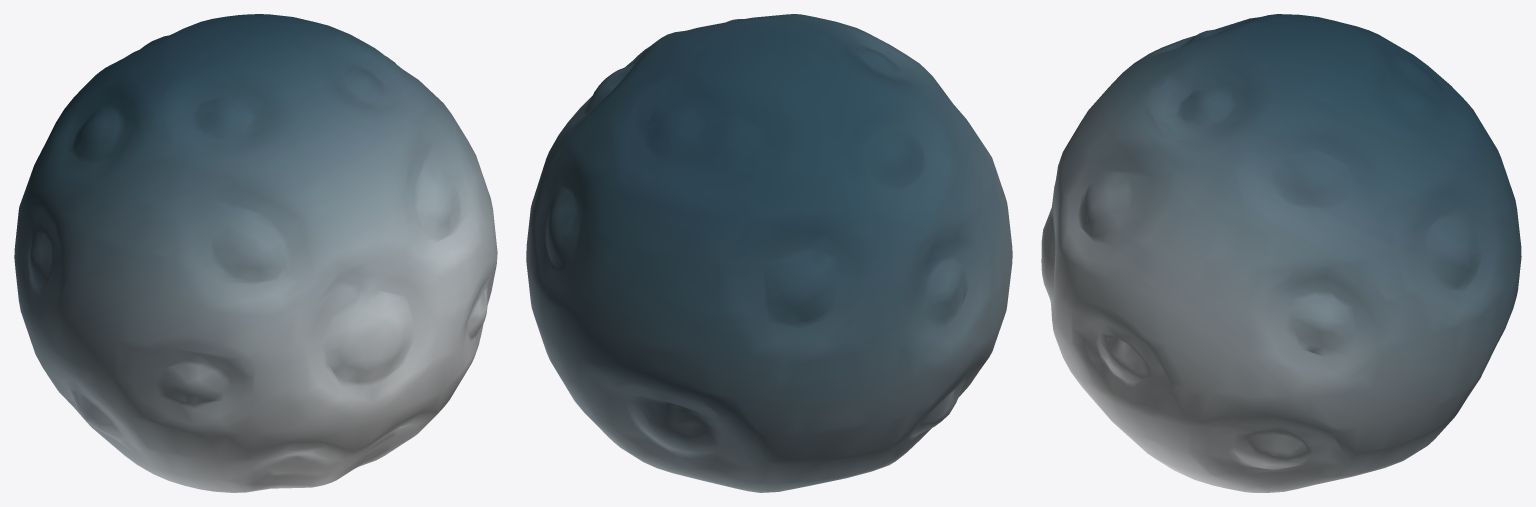
Rendered from Planet_V10.fbx.
3 renders of one model, left to right at view 1: azimuth 30°, elevation 25°; view 2: azimuth 150°, elevation 25°; view 3: azimuth 270°, elevation 25°, orthographic.
Visible parts, largest first — view 1: Planet_V10; view 2: Planet_V10; view 3: Planet_V10.
Part boxes in pixels (box(x1,y1,x2,y2)): Planet_V10: box(14, 14, 497, 492); Planet_V10: box(526, 14, 1012, 492); Planet_V10: box(1041, 14, 1521, 492).
Size of the model in its own units: 1420 by 1426 by 1422.
